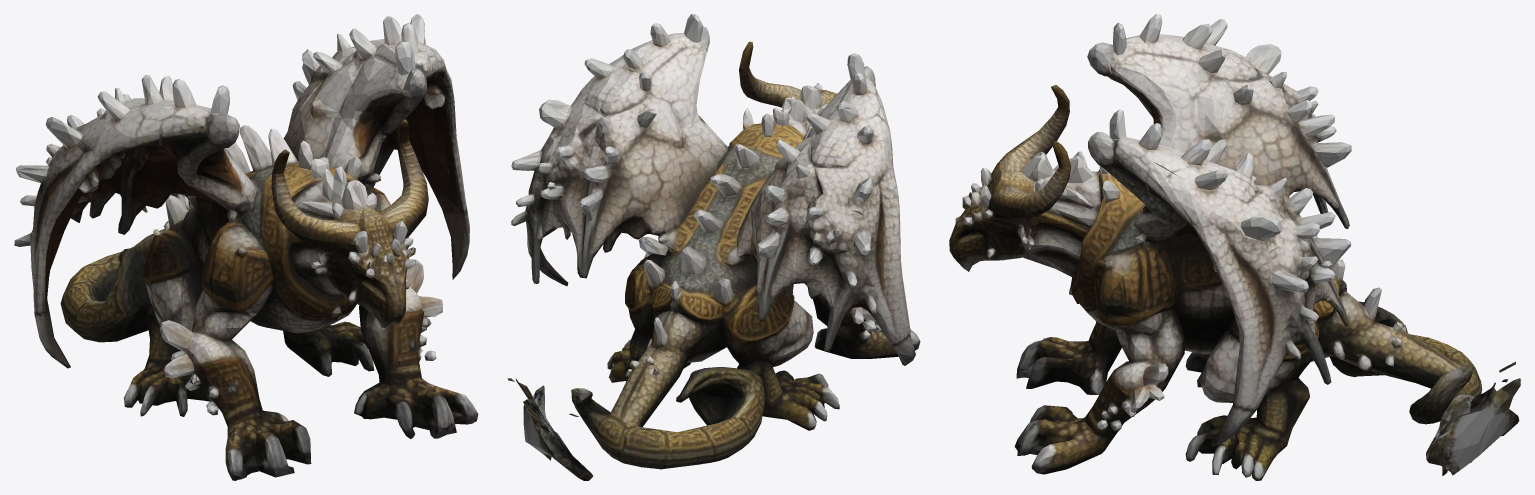
File: saltGargoyle.glb
The picture shows the model from 3 angles, left to right: view 1: azimuth 30°, elevation 25°; view 2: azimuth 150°, elevation 25°; view 3: azimuth 270°, elevation 25°; orthographic projection. The views are drawn at different scales.
Parts seen in each view (by area): view 1: world; view 2: world; view 3: world.
Boxes of the visible parts, x1,y1,x2,y2 form: world: (14, 14, 478, 480); world: (507, 14, 920, 480); world: (949, 14, 1520, 480).
Size of the model in its own units: 0.8502 by 0.6962 by 0.9976.
Materials: 1 (1 with a texture image).
